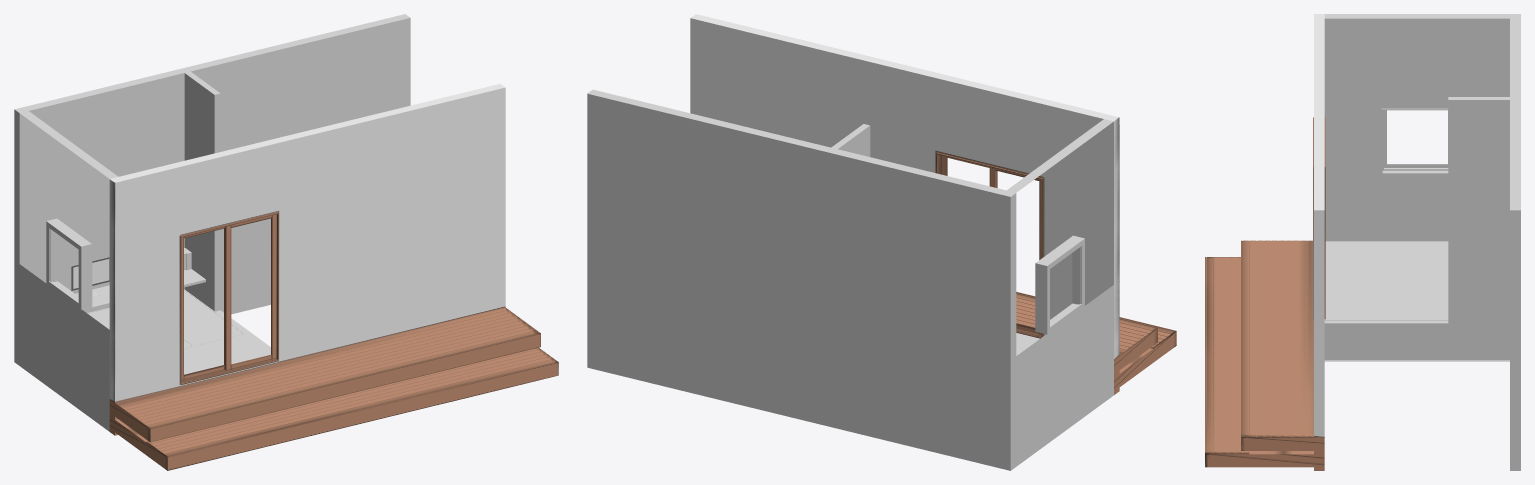
The picture shows the model from 3 angles, left to right: view 1: azimuth 30°, elevation 25°; view 2: azimuth 150°, elevation 25°; view 3: azimuth 270°, elevation 25°; orthographic projection. The views are drawn at different scales.
Visible parts, largest first — view 1: 1.wall.002, 1.wall.001, 1.wall, 4-2.deck, 4-2.deck.002, 1.wall.003, 3.window.001, 2.floor.004, 2.floor.003, 4.deck.003, 4.deck.012, 4.deck.015 (+19 smaller); view 2: 1.wall.001, 1.wall.002, 1.wall, 3-2.window, 4.deck.011, 3.window.003, 立方体.001, 1.wall.003; view 3: 1.wall, 1.wall.003, 2.floor, 1.wall.002, 1.wall.001, 2.floor.001, 2.floor.004, 2.floor.003, 4.deck.011, 3.floor.005, 4.deck.013, 4.deck.003 (+18 smaller).
Part boxes in pixels (left/top/right/bottom): 1.wall.002: left=109, top=83, right=505, bottom=435; 1.wall.001: left=14, top=14, right=410, bottom=365; 1.wall: left=19, top=111, right=118, bottom=431; 4-2.deck: left=149, top=333, right=540, bottom=442; 4-2.deck.002: left=167, top=361, right=558, bottom=470; 1.wall.003: left=184, top=71, right=220, bottom=311; 3.window.001: left=225, top=214, right=276, bottom=370; 2.floor.004: left=184, top=333, right=270, bottom=374; 2.floor.003: left=184, top=289, right=243, bottom=345; 4.deck.003: left=139, top=325, right=532, bottom=423; 4.deck.012: left=163, top=359, right=557, bottom=457; 4.deck.015: left=153, top=351, right=546, bottom=449; 1.wall.001: left=587, top=89, right=1016, bottom=470; 1.wall.002: left=690, top=14, right=1119, bottom=394; 1.wall: left=1007, top=119, right=1113, bottom=466; 3-2.window: left=1035, top=235, right=1084, bottom=334; 4.deck.011: left=1119, top=332, right=1176, bottom=386; 3.window.003: left=936, top=152, right=1043, bottom=338; 立方体.001: left=1047, top=240, right=1084, bottom=332; 1.wall.003: left=831, top=124, right=870, bottom=156; 1.wall: left=1324, top=14, right=1509, bottom=241; 1.wall.003: left=1448, top=97, right=1509, bottom=323; 2.floor: left=1324, top=320, right=1509, bottom=360; 1.wall.002: left=1314, top=14, right=1324, bottom=470; 1.wall.001: left=1510, top=14, right=1520, bottom=470; 2.floor.001: left=1325, top=241, right=1448, bottom=267; 2.floor.004: left=1324, top=267, right=1386, bottom=320; 2.floor.003: left=1386, top=293, right=1448, bottom=320; 4.deck.011: left=1206, top=451, right=1313, bottom=467; 3.floor.005: left=1386, top=267, right=1448, bottom=293; 4.deck.013: left=1213, top=257, right=1220, bottom=454; 4.deck.003: left=1256, top=240, right=1263, bottom=437.
Bounding box in the file's own units: 6.49 × 4 × 4.4.
Materials: 3 (1 with a texture image).
